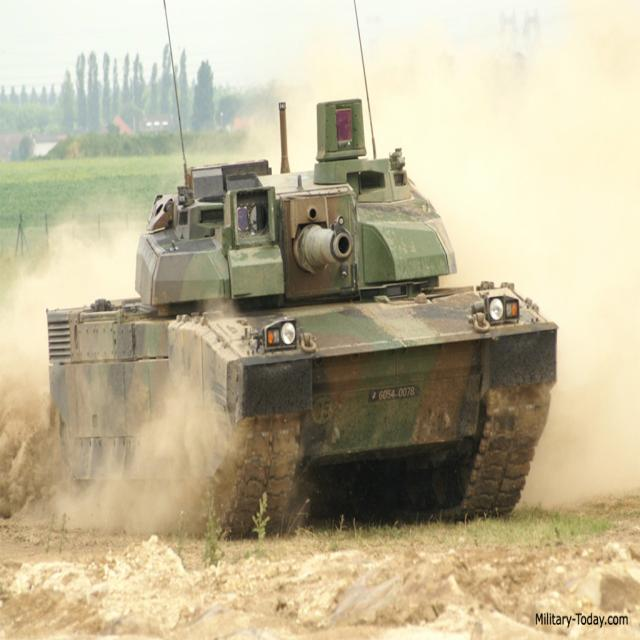Tank: (83, 95, 568, 525)
